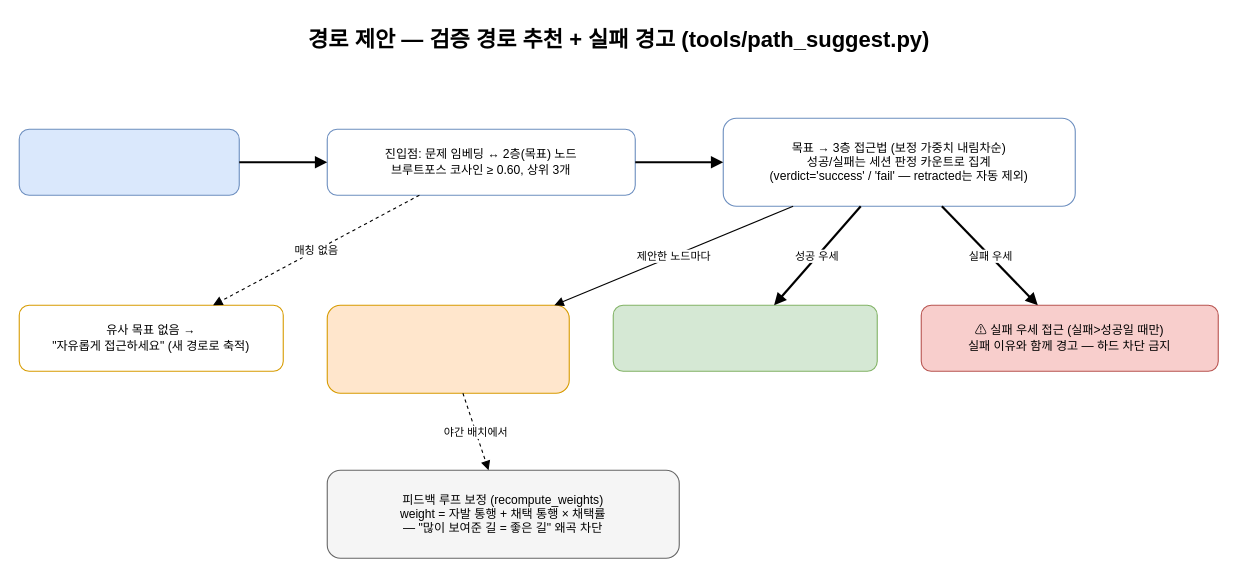
Some shapes in this 1238 by 578 pixel diagram are drawn without their labels. Here are the shapes that lost their labels. From the top down, the box of each, then its label:
(18, 128, 239, 195): 사용자 문제 한 문장 (suggest_paths 호출)
(326, 304, 569, 393): 노출 기록: suggestions 테이블 (problem, node_id, session_id, adopted) → 파이프라인이 채택 여부 판정
(612, 304, 877, 371): ✅ 검증된 경로 (성공 N회) + 사용 도구(4층) 안내
